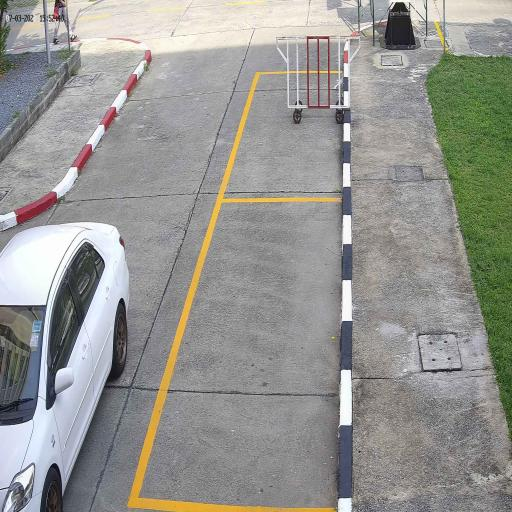car: (0, 219, 130, 511)
